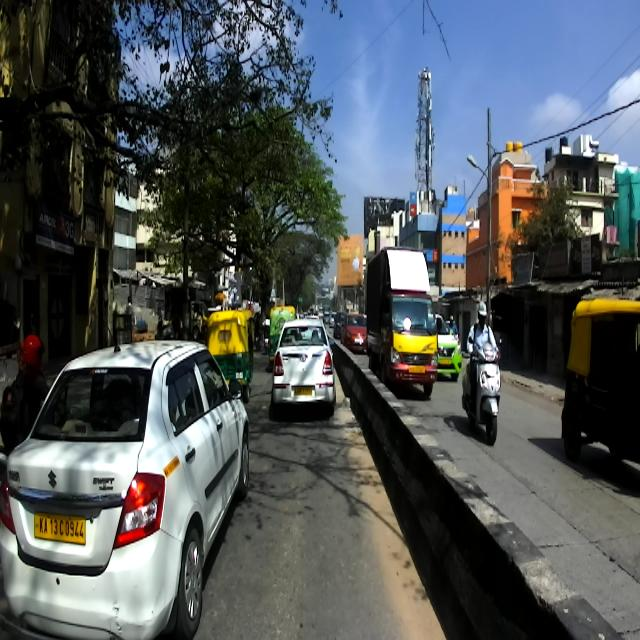car ahead at: (0, 331, 254, 640), (270, 316, 335, 416)
motorcycle ahead at: (459, 340, 507, 447)
truck ahead at: (366, 246, 438, 396)
